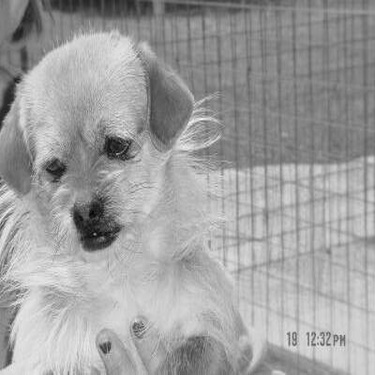dog: (1, 26, 281, 373)
